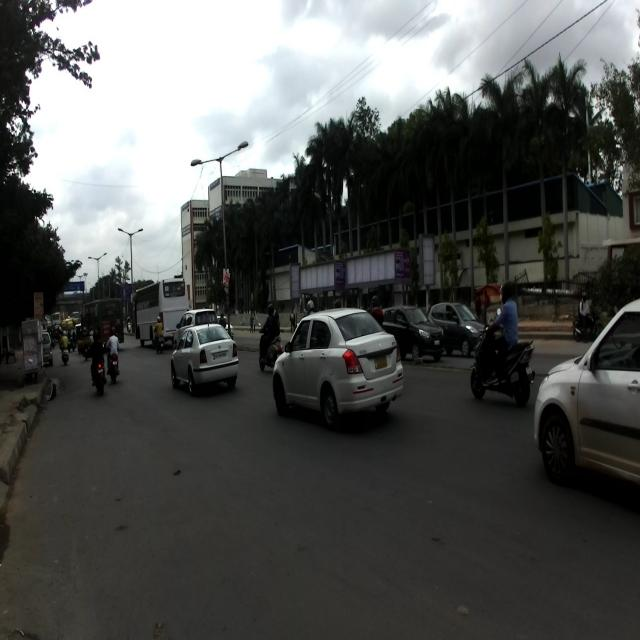Car_Maruti-Suzuki: (534, 300, 640, 498), (272, 306, 404, 430), (380, 303, 444, 363)
Car_Skoda: (170, 321, 240, 392)
bus: (134, 276, 192, 348)
motorcycle_bajaj: (571, 307, 602, 341)
scooter: (470, 307, 535, 406), (257, 322, 284, 371)
